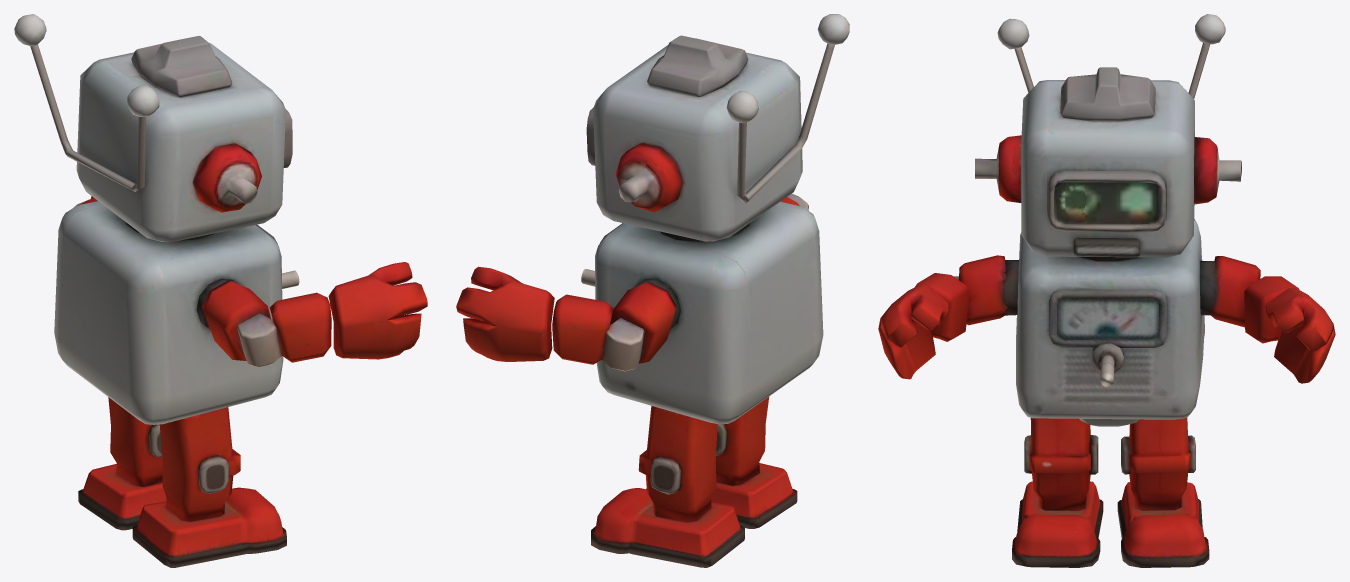
Rendered from char-10-robot.glb.
3 views of the same model, side by side, from view 1: azimuth 30°, elevation 25°; view 2: azimuth 150°, elevation 25°; view 3: azimuth 270°, elevation 25° (orthographic). The views are drawn at different scales.
Parts seen in each view (by area): view 1: tripo_node_b625cbca-6de2-450a-b3bd-7b4e7b507f14; view 2: tripo_node_b625cbca-6de2-450a-b3bd-7b4e7b507f14; view 3: tripo_node_b625cbca-6de2-450a-b3bd-7b4e7b507f14.
Boxes of the visible parts, left/top/right/bottom form: tripo_node_b625cbca-6de2-450a-b3bd-7b4e7b507f14: left=14, top=14, right=427, bottom=567; tripo_node_b625cbca-6de2-450a-b3bd-7b4e7b507f14: left=456, top=14, right=849, bottom=567; tripo_node_b625cbca-6de2-450a-b3bd-7b4e7b507f14: left=878, top=14, right=1335, bottom=567.
Size of the model in its own units: 0.5176 by 0.998 by 0.8691.
1 material, 1 textured.
